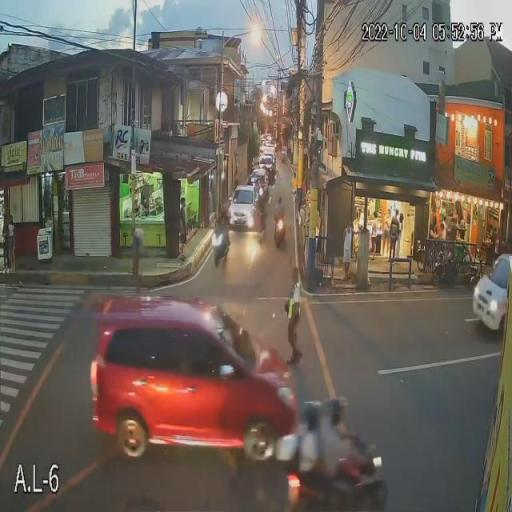helmet: (299, 400, 322, 439), (326, 397, 345, 428)
motorcycle: (208, 226, 232, 268)
rider: (323, 394, 359, 501), (297, 396, 322, 486)
